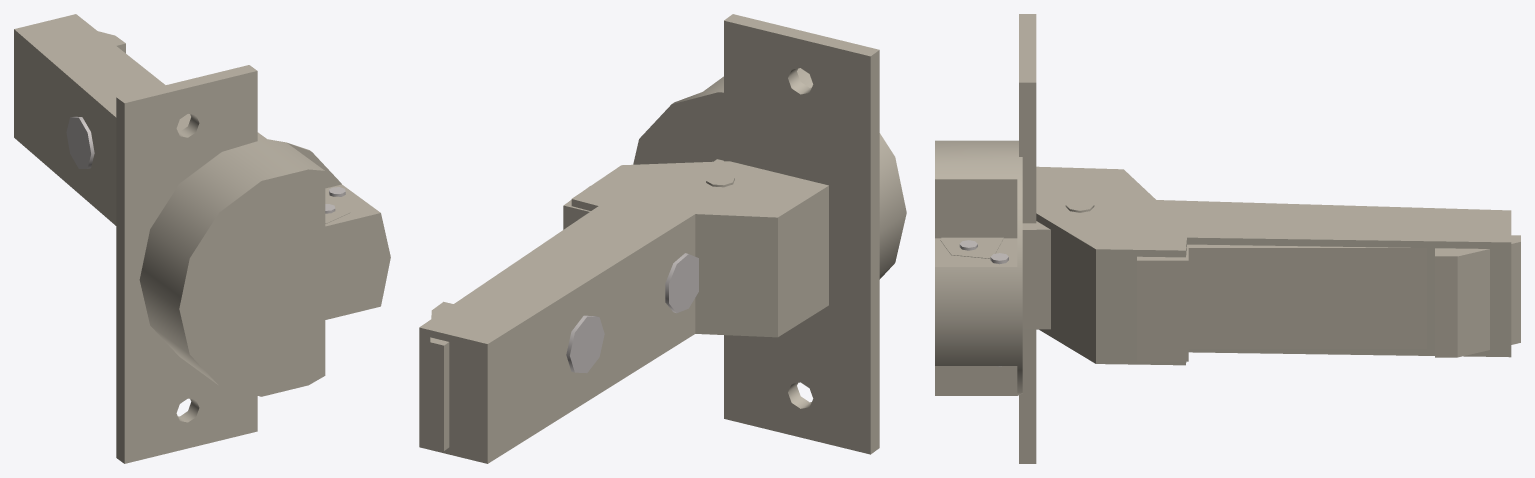
3 renders of one model, left to right at view 1: azimuth 30°, elevation 25°; view 2: azimuth 150°, elevation 25°; view 3: azimuth 270°, elevation 25°, orthographic. The views are drawn at different scales.
Parts seen in each view (by area): view 1: bau0045622955-1, bau0050873340-1, bau0016549175-2; view 2: bau0050873340-1, bau0045622955-1, bau0019426112-1; view 3: bau0050873340-1, bau0019426112-1, bau0045622955-1, bau0016549209-1, bau0016549175-2.
Part boxes in pixels (x1=…): bau0045622955-1: x1=116, y1=65, x2=390, y2=463; bau0050873340-1: x1=14, y1=14, x2=265, y2=225; bau0016549175-2: x1=325, y1=196, x2=350, y2=223; bau0050873340-1: x1=419, y1=161, x2=828, y2=463; bau0045622955-1: x1=633, y1=14, x2=906, y2=454; bau0019426112-1: x1=430, y1=186, x2=590, y2=450; bau0050873340-1: x1=1036, y1=166, x2=1511, y2=365; bau0019426112-1: x1=1137, y1=235, x2=1520, y2=361; bau0045622955-1: x1=935, y1=14, x2=1036, y2=463; bau0016549209-1: x1=1022, y1=221, x2=1050, y2=329; bau0016549175-2: x1=940, y1=237, x2=1003, y2=258.
Size of the model in its own units: 37.5 by 57 by 79.35.
